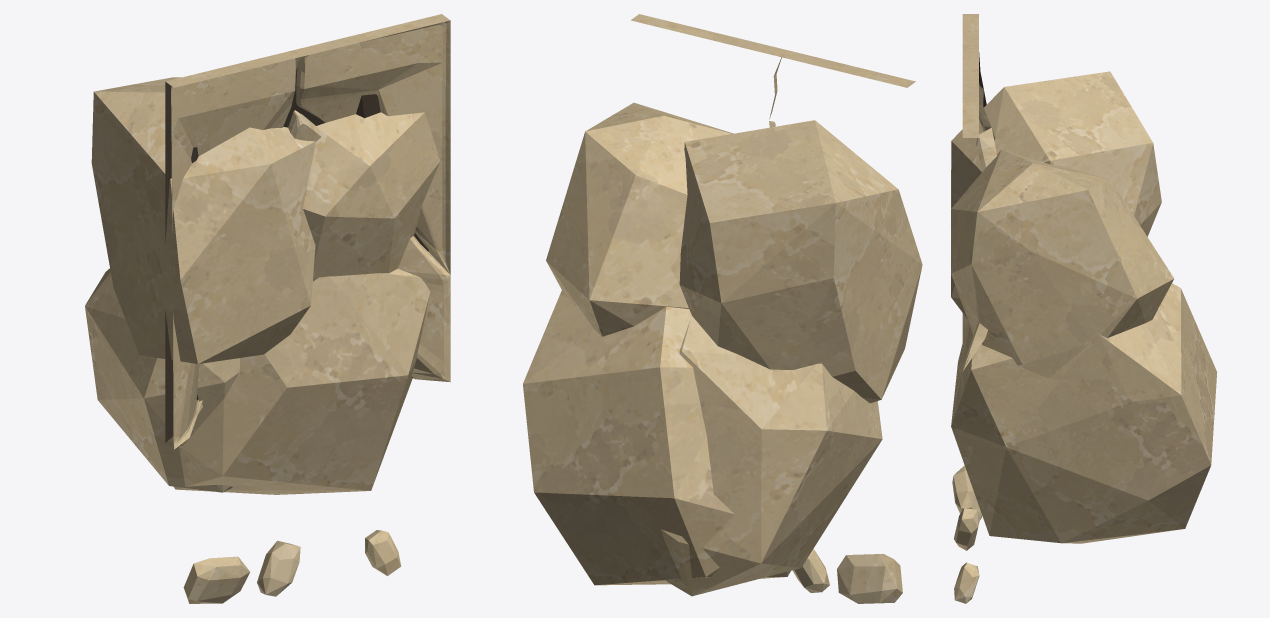
Rendered from ground_bottom_edge_09.glb.
3 views of the same model, side by side, from view 1: azimuth 30°, elevation 25°; view 2: azimuth 150°, elevation 25°; view 3: azimuth 270°, elevation 25° (orthographic). The views are drawn at different scales.
Visible parts, largest first — view 1: GroundBottomEdge09_Body; view 2: GroundBottomEdge09_Body; view 3: GroundBottomEdge09_Body.
Part boxes in pixels (box(x1,y1,x2,y2)): GroundBottomEdge09_Body: box(85, 14, 450, 603); GroundBottomEdge09_Body: box(523, 14, 922, 603); GroundBottomEdge09_Body: box(951, 14, 1217, 603).
Size of the model in its own units: 1 by 1.86 by 1.04.
5 materials, 4 textured.
